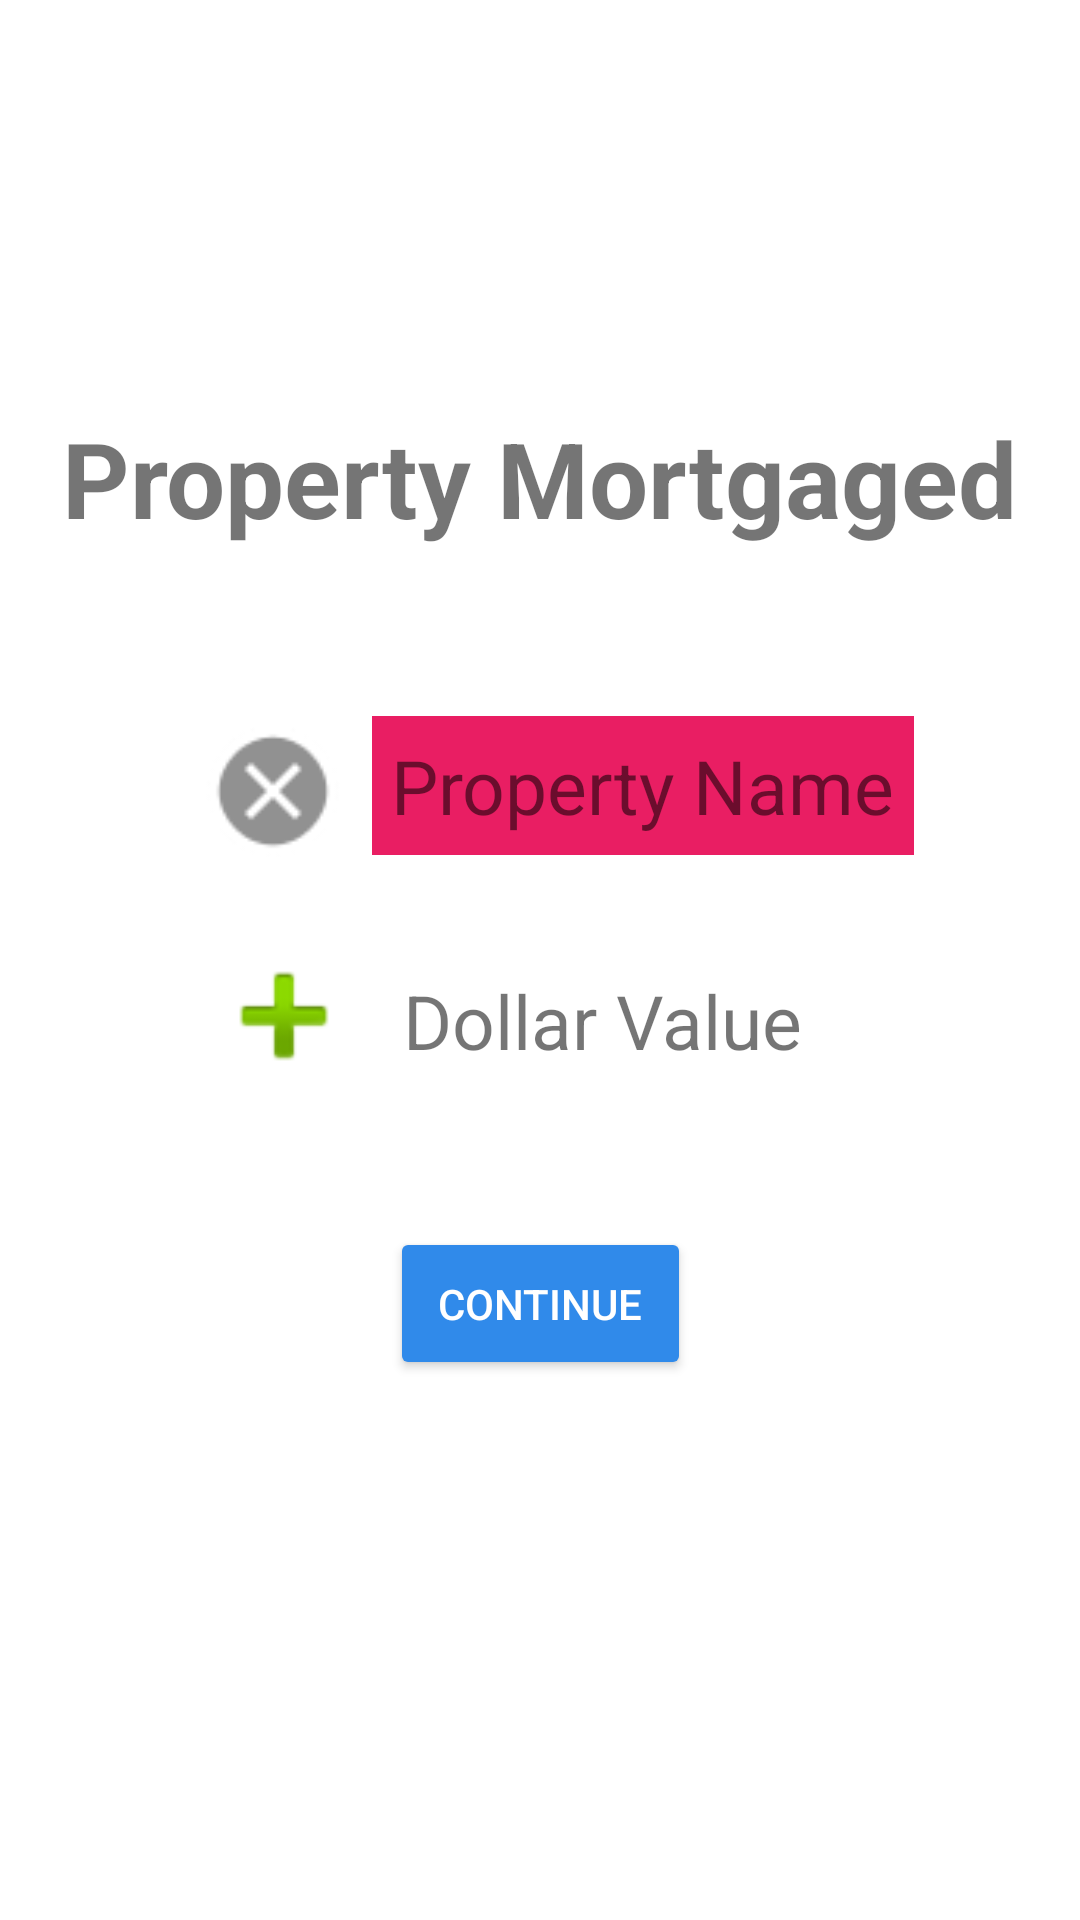

Point at icon controls on the screen. Image size 1080x1920, points as [x,y].
add: [284,1016]
presence offline: [273,791]
